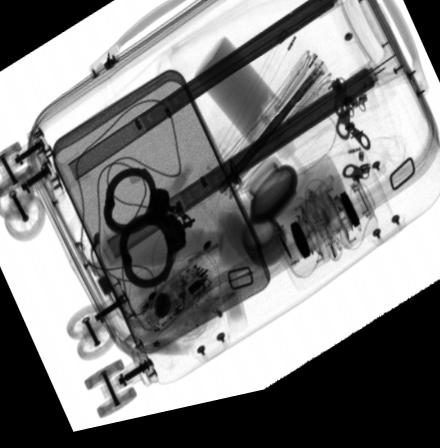HandCuffs: (101, 171, 199, 295)
